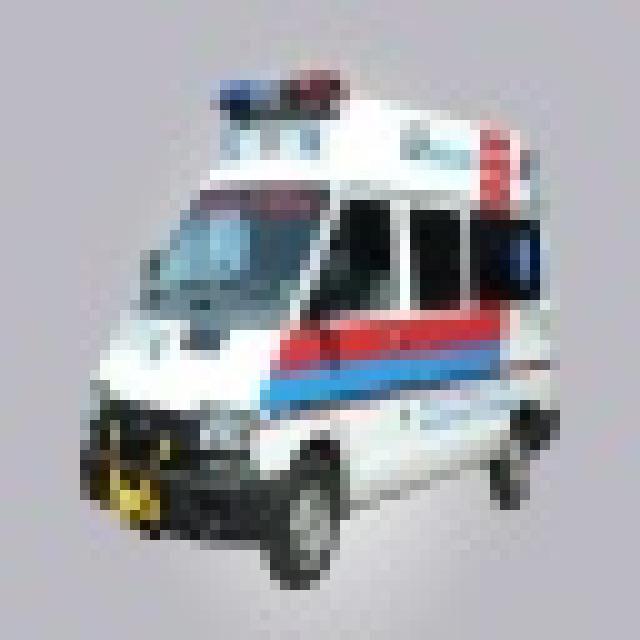ambulance: (70, 60, 560, 580)
